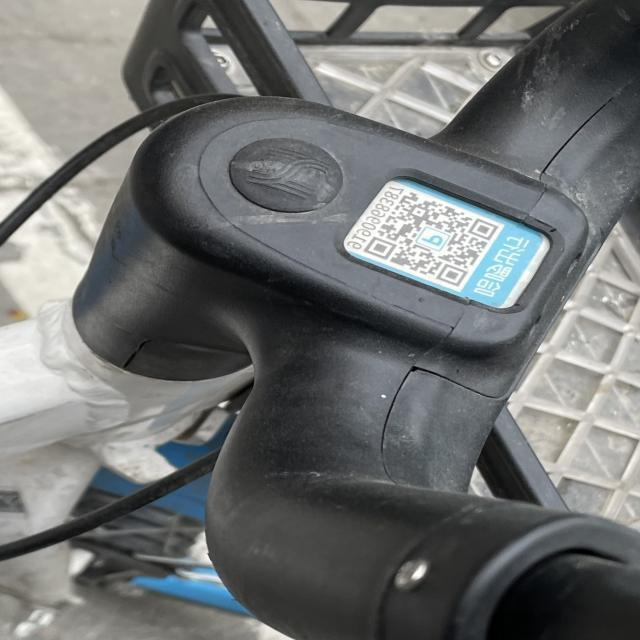qr_code: (367, 193, 498, 290)
